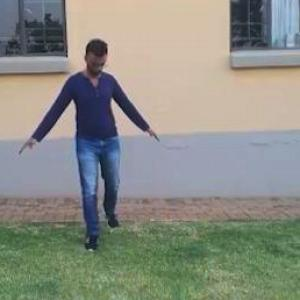land: (24, 21, 180, 253)
